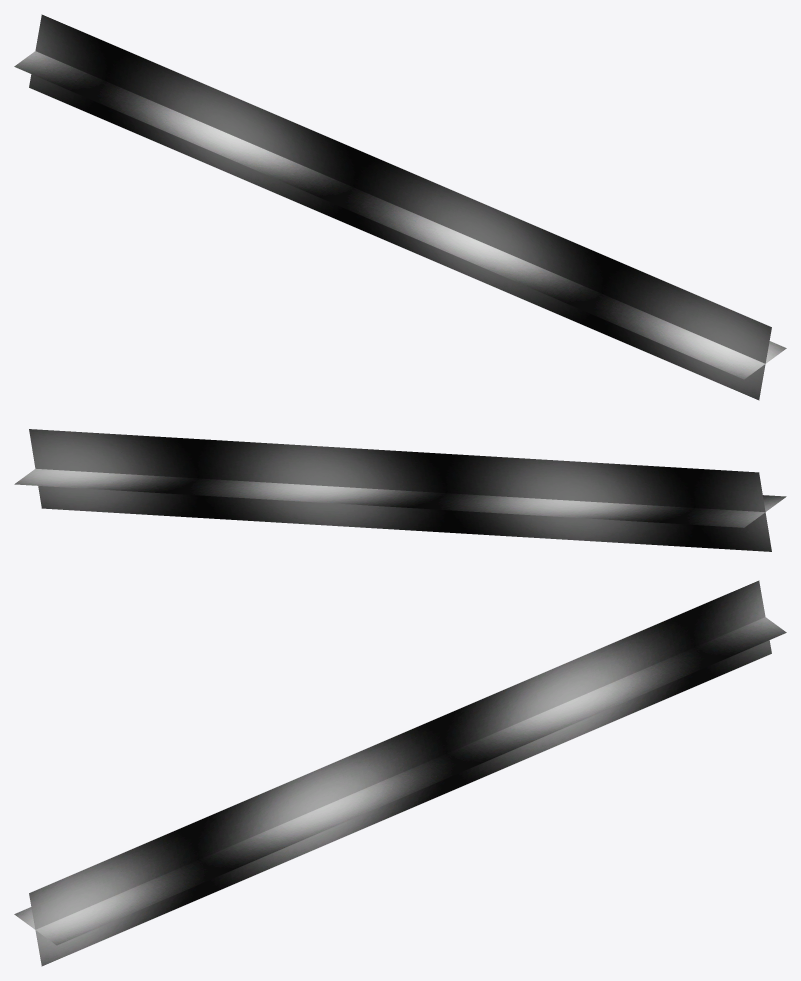
File: vfx_kurp_1031.dae
The picture shows the model from 3 angles, top to bottom: view 1: azimuth 30°, elevation 25°; view 2: azimuth 210°, elevation 25°; view 3: azimuth 270°, elevation 25°; orthographic projection.
Parts seen in each view (by area): view 1: vfx_kurp_1031; view 2: vfx_kurp_1031; view 3: vfx_kurp_1031.
Part boxes in pixels (bbox=[...]): vfx_kurp_1031: bbox=[14, 14, 786, 400]; vfx_kurp_1031: bbox=[14, 429, 786, 551]; vfx_kurp_1031: bbox=[14, 580, 786, 966].
Size of the model in its own units: 1.04 by 1.63 by 0.4898.
Materials: 1 (1 with a texture image).
